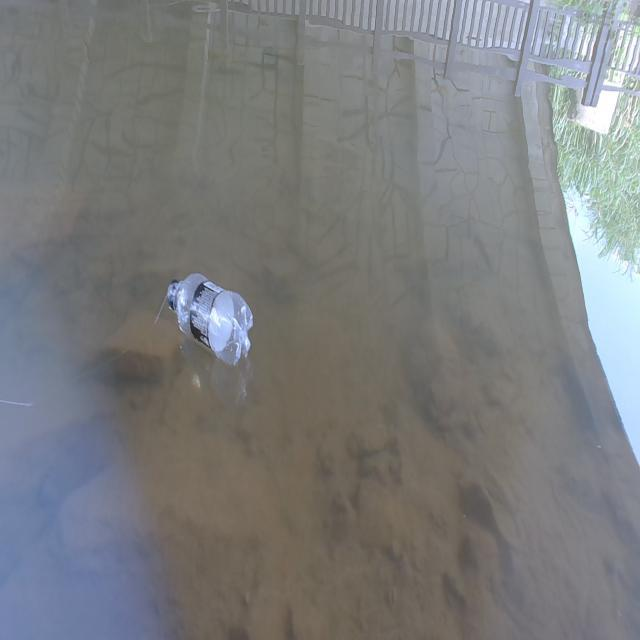bottle: (142, 233, 272, 389)
